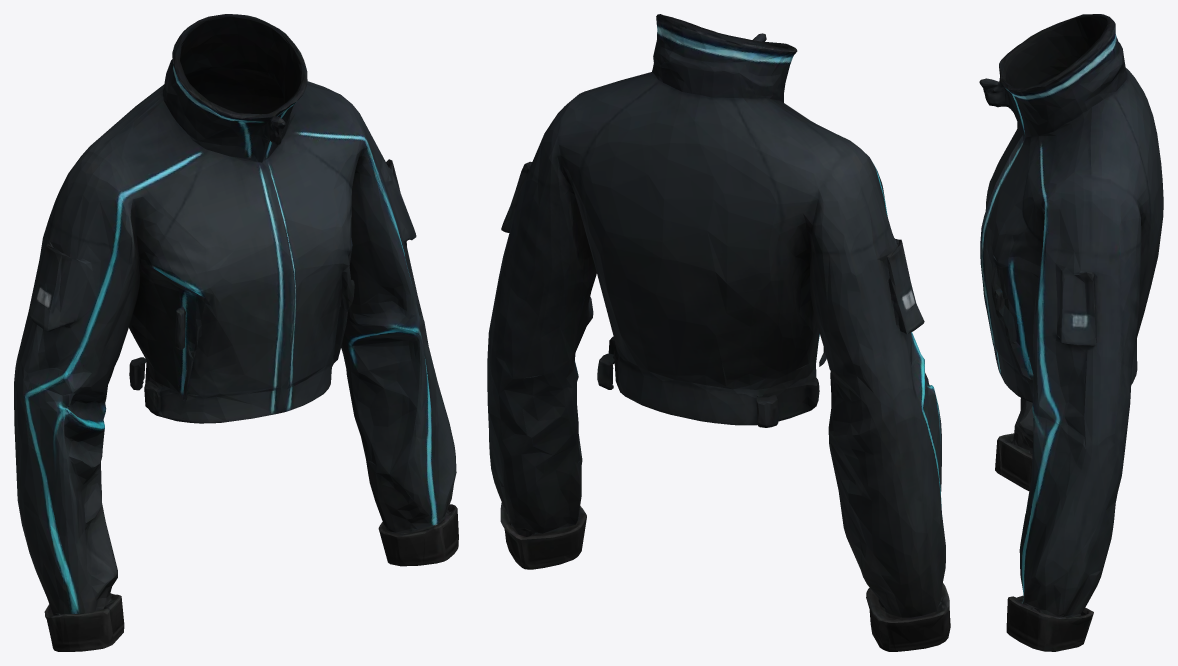
File: jacket.glb
3 views of the same model, side by side, from view 1: azimuth 30°, elevation 25°; view 2: azimuth 150°, elevation 25°; view 3: azimuth 270°, elevation 25° (orthographic). The views are drawn at different scales.
Parts seen in each view (by area): view 1: geometry_0; view 2: geometry_0; view 3: geometry_0.
Part boxes in pixels (x1=…): geometry_0: x1=14, y1=14, x2=458, y2=651; geometry_0: x1=487, y1=14, x2=950, y2=651; geometry_0: x1=979, y1=14, x2=1163, y2=651.
Bounding box in the file's own units: 0.7737 × 0.998 × 0.3097.
1 material, 1 textured.
